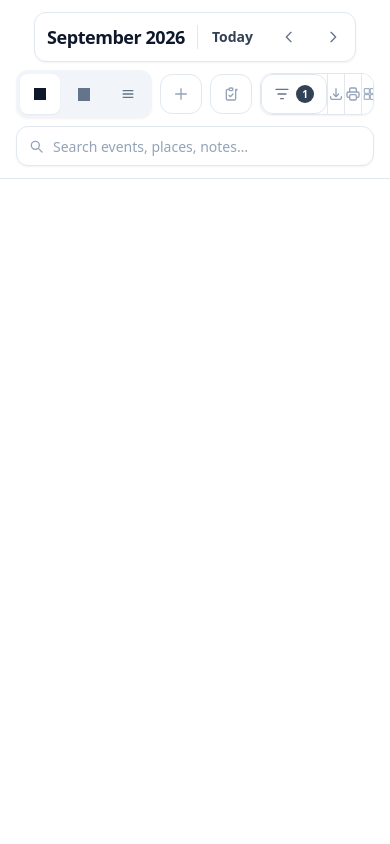
Test: CalendarToolbar calendar filter (#069) › lists every calendar with a switch that reads its visibility
Step 1. Click the button with test id "calendar-filter-trigger" → point(294, 94), box [261,74,327,114]
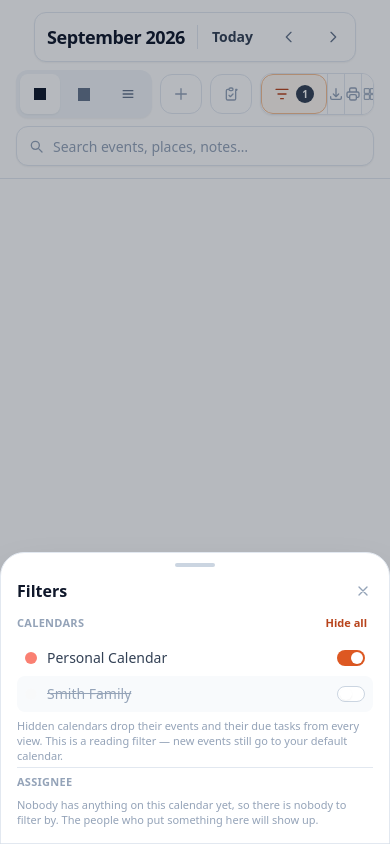
Now the dialog with test id "calendar-filter-panel" is shown, box [0,552,389,843]
